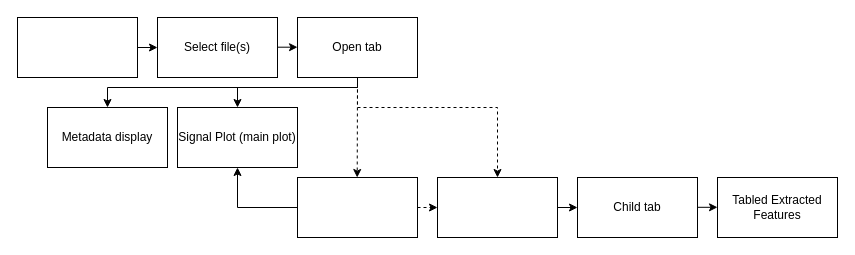
The diagram is 855 pixels wide and 255 high, and some of its shapes have lost their labels. Here are the shapes that lost their labels. From the top down, the centre of each, then its label:
(x=77, y=47): Select window type
(x=357, y=207): Signal Preprocessing
(x=497, y=207): Time/Spectral Analysis
